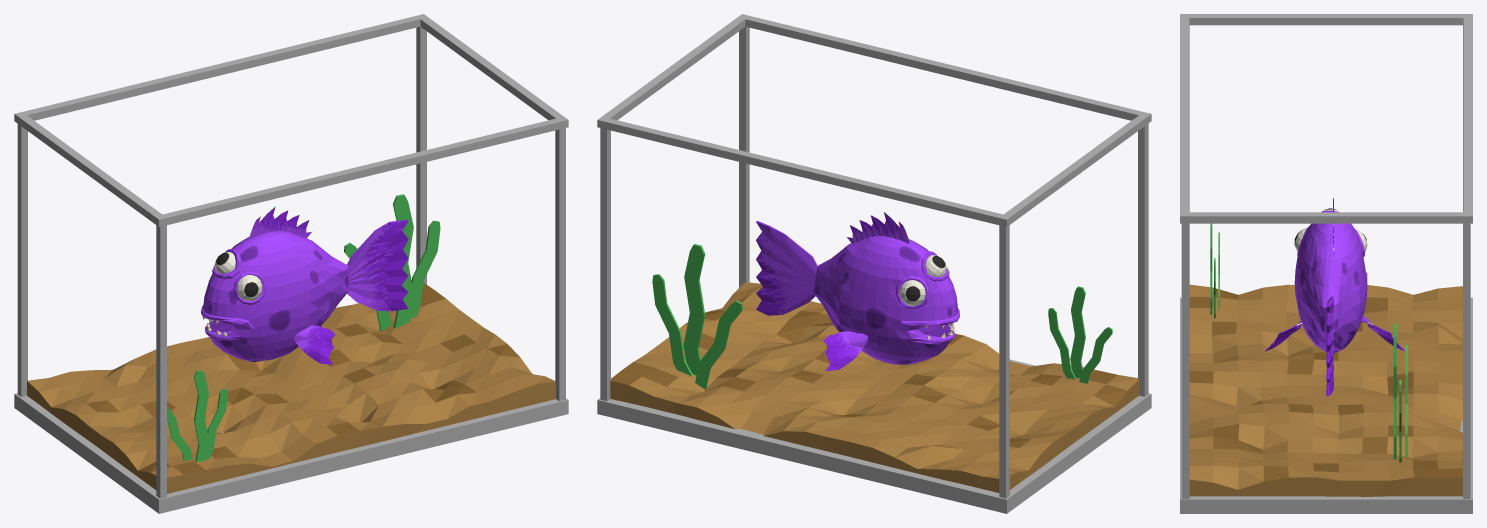
The model's file is fish_0505.fbx.
3 views of the same model, side by side, from view 1: azimuth 30°, elevation 25°; view 2: azimuth 150°, elevation 25°; view 3: azimuth 270°, elevation 25° (orthographic).
Visible parts, largest first — view 1: fish; view 2: fish; view 3: fish.
Part boxes in pixels (<box>): fish: <box>14,14,568,513</box>; fish: <box>597,14,1151,513</box>; fish: <box>1180,14,1472,513</box>.
Bounding box in the file's own units: 243 × 167 × 149.
1 material, 1 textured.
